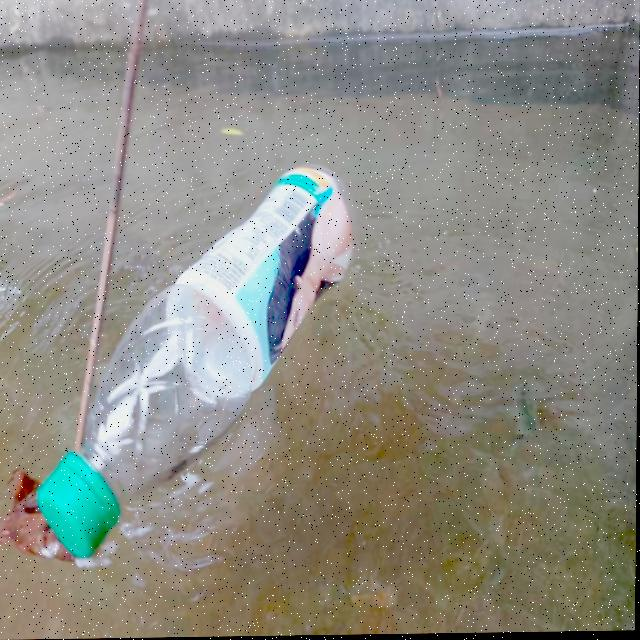leaf: (0, 468, 43, 582)
waterbottle: (41, 160, 390, 556)
